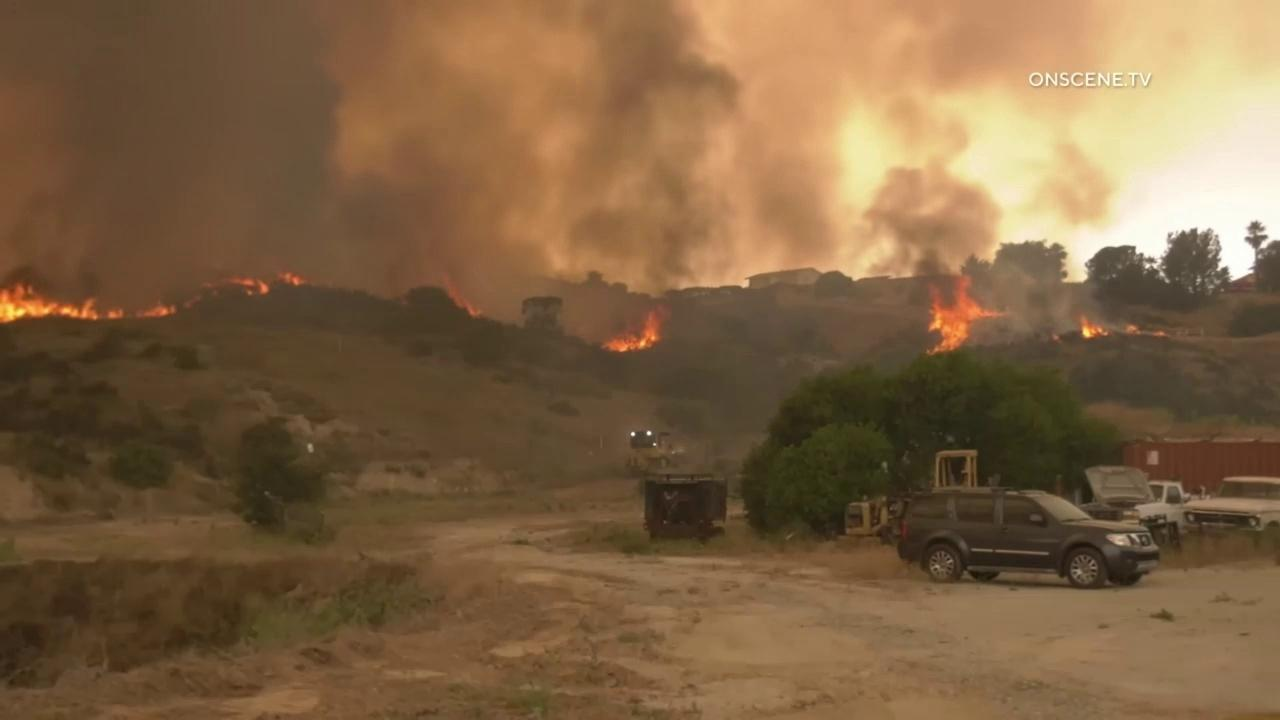fire: (926, 275, 1009, 356), (0, 280, 101, 325), (600, 304, 670, 352), (443, 272, 478, 318), (1078, 312, 1110, 339), (228, 276, 271, 296), (135, 305, 177, 318), (277, 271, 304, 286), (107, 306, 124, 321), (182, 295, 201, 308), (1126, 323, 1141, 336), (1154, 330, 1169, 338), (1052, 336, 1059, 341)
smoke: (0, 0, 1280, 344)
